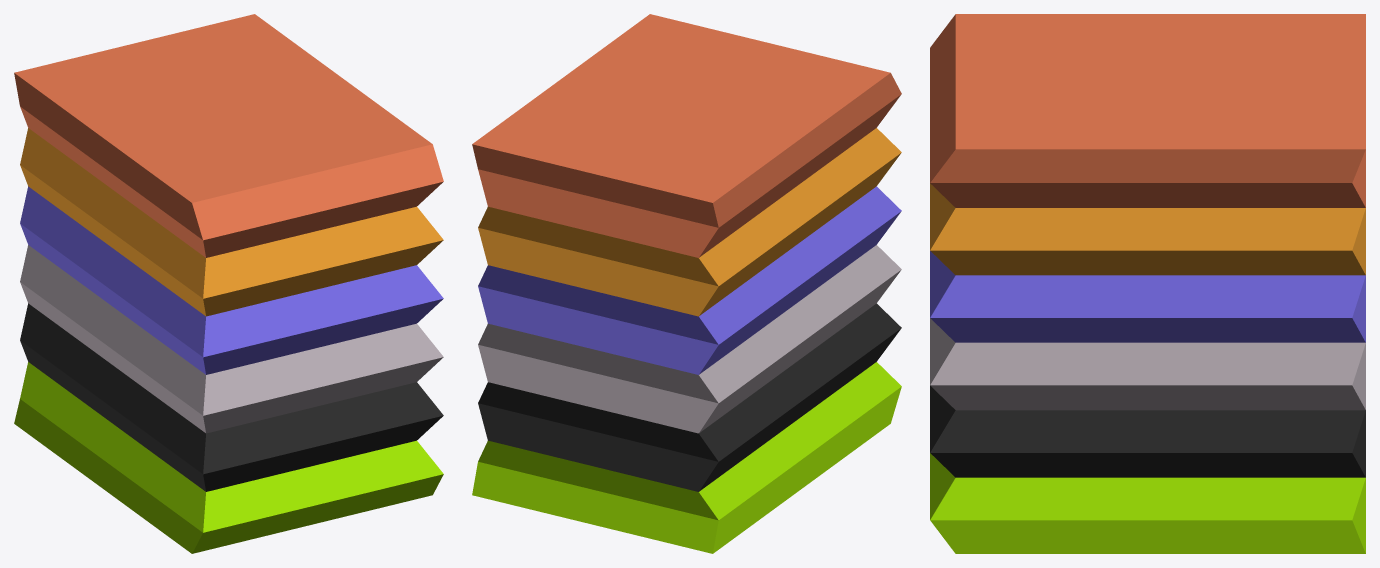
File: foldedClothes.fbx
3 views of the same model, side by side, from view 1: azimuth 30°, elevation 25°; view 2: azimuth 150°, elevation 25°; view 3: azimuth 270°, elevation 25° (orthographic). The views are drawn at different scales.
Visible parts, largest first — view 1: Cube; view 2: Cube; view 3: Cube.
Part boxes in pixels (bbox=[...]): Cube: bbox=[14, 14, 443, 553]; Cube: bbox=[472, 14, 901, 553]; Cube: bbox=[930, 14, 1365, 553].
Bounding box in the file's own units: 14.75 × 20.55 × 20.06.
